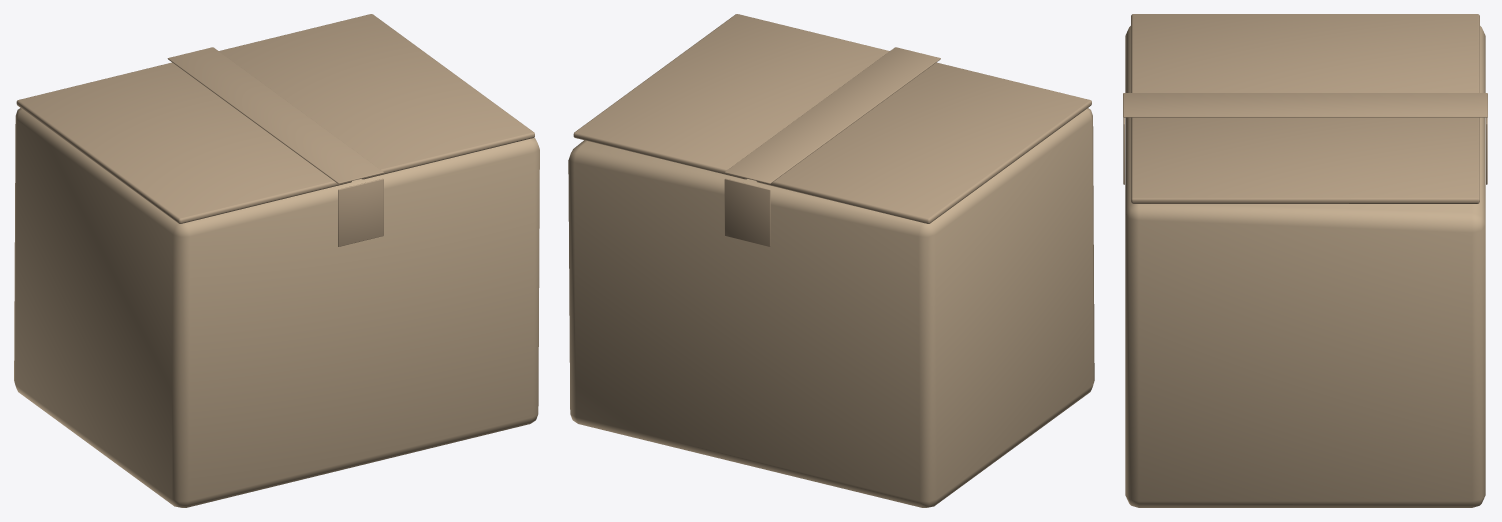
The model's file is cl_carton.glb.
3 views of the same model, side by side, from view 1: azimuth 30°, elevation 25°; view 2: azimuth 150°, elevation 25°; view 3: azimuth 270°, elevation 25° (orthographic). The views are drawn at different scales.
Visible parts, largest first — view 1: cl_carton; view 2: cl_carton; view 3: cl_carton.
Part boxes in pixels (x1=…): cl_carton: x1=14, y1=14, x2=539, y2=507; cl_carton: x1=568, y1=14, x2=1094, y2=507; cl_carton: x1=1123, y1=14, x2=1487, y2=507.
Size of the model in its own units: 0.402 by 0.3072 by 0.324.
